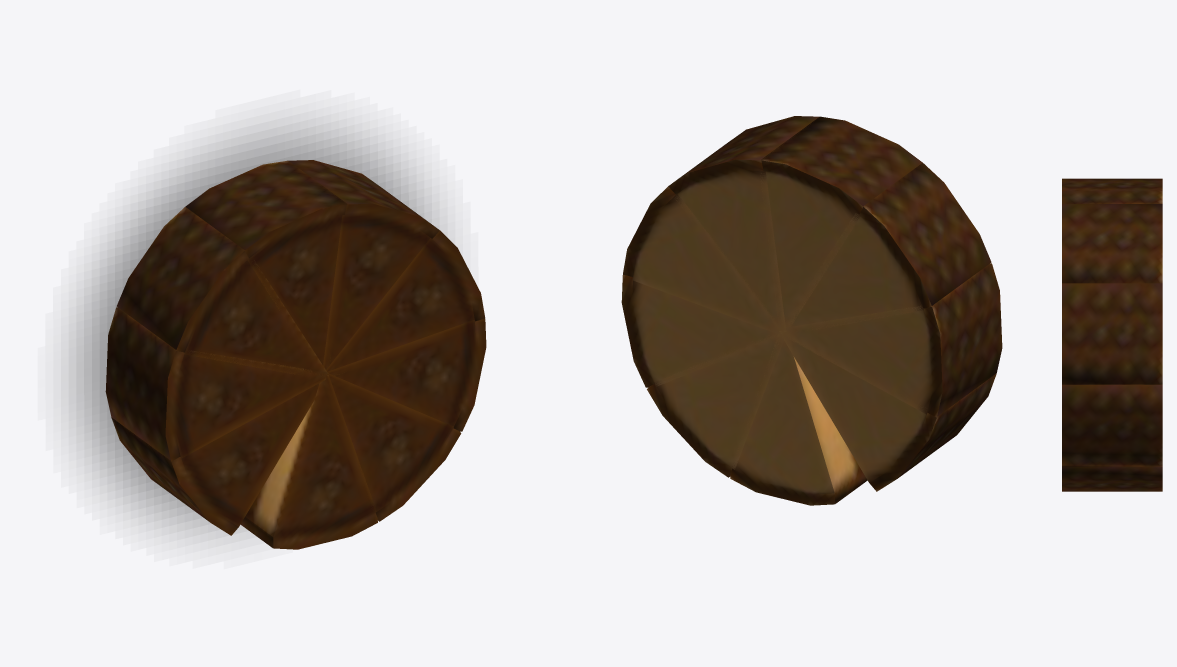
The model's file is picnic_cake.glb.
3 views of the same model, side by side, from view 1: azimuth 30°, elevation 25°; view 2: azimuth 150°, elevation 25°; view 3: azimuth 270°, elevation 25° (orthographic). The views are drawn at different scales.
Parts seen in each view (by area): view 1: shadow, cake_slice7, cake_slice8, cake_slice6, cake_slice1, cake_slice5, cake_slice9, cake_slice2, cake_slice3, cake_slice4; view 2: cake_slice7, cake_slice8, cake_slice6, cake_slice1, cake_slice5, cake_slice9, cake_slice4, cake_slice2, cake_slice3; view 3: cake_slice4, cake_slice3, cake_slice5, cake_slice2, cake_slice6.
Boxes of the visible parts, x1,y1,x2,y2 form: shadow: [69, 120, 446, 536]; cake_slice7: [116, 207, 327, 376]; cake_slice8: [105, 307, 325, 461]; cake_slice6: [185, 160, 347, 366]; cake_slice1: [240, 375, 377, 549]; cake_slice5: [288, 160, 439, 375]; cake_slice9: [111, 383, 319, 535]; cake_slice2: [325, 373, 461, 521]; cake_slice3: [325, 319, 486, 431]; cake_slice4: [324, 230, 485, 375]; cake_slice7: [786, 163, 991, 334]; cake_slice8: [782, 263, 1002, 417]; cake_slice6: [760, 116, 922, 330]; cake_slice1: [730, 331, 867, 505]; cake_slice5: [668, 116, 819, 332]; cake_slice9: [781, 332, 996, 491]; cake_slice4: [623, 186, 782, 335]; cake_slice2: [647, 333, 785, 477]; cake_slice3: [621, 274, 783, 387]; cake_slice4: [1062, 283, 1162, 384]; cake_slice3: [1062, 384, 1162, 465]; cake_slice5: [1062, 204, 1162, 283]; cake_slice2: [1062, 465, 1162, 491]; cake_slice6: [1062, 178, 1162, 203].
Size of the model in its own units: 1.38 by 1.38 by 0.2897.
2 materials, 2 textured.
